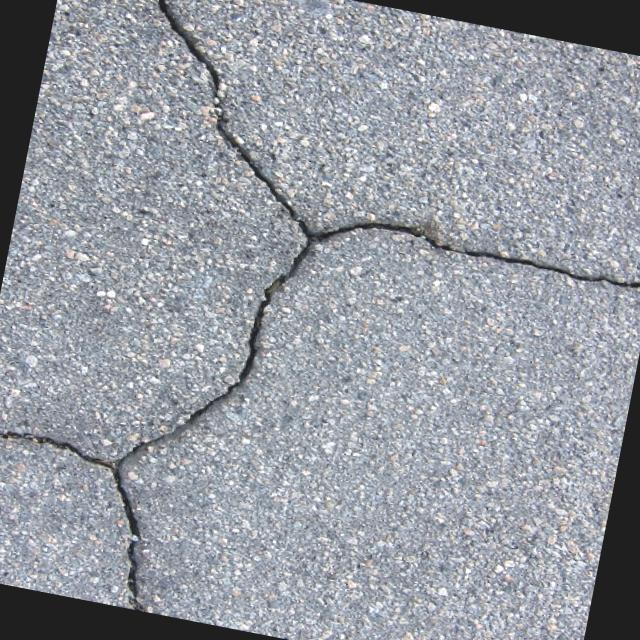crack: (70, 0, 358, 232), (115, 216, 313, 489), (303, 207, 640, 309), (86, 476, 172, 612), (0, 420, 126, 479)
